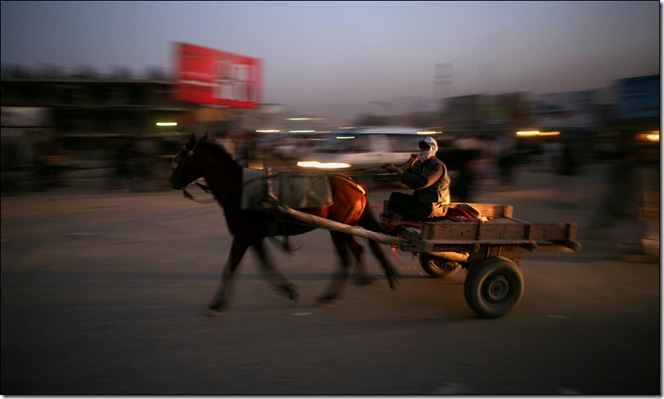horse: (169, 133, 404, 319)
